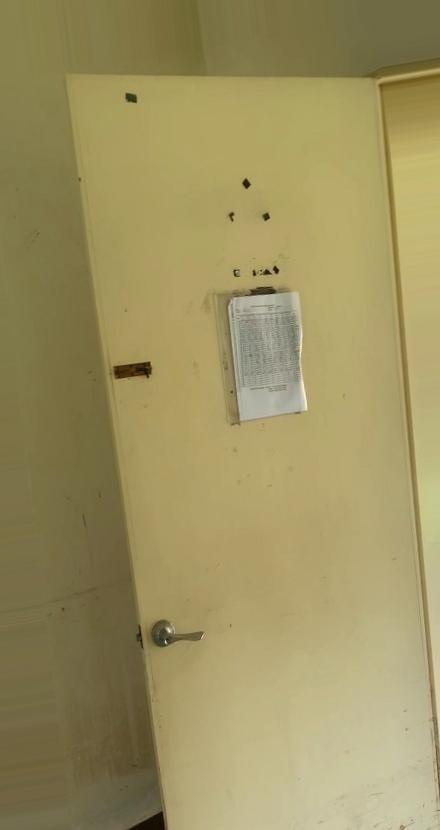door: (64, 74, 439, 830)
